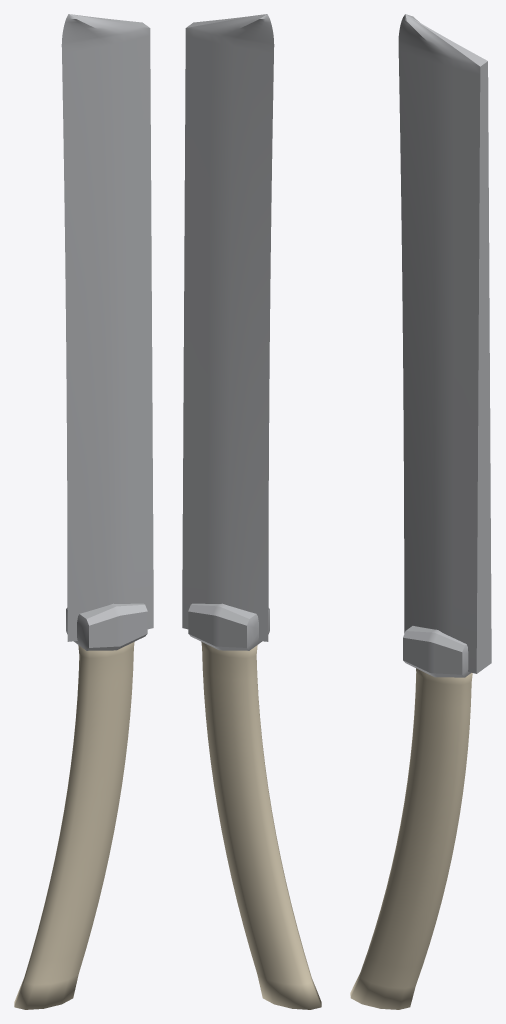
File: war-razor.glb
3 renders of one model, left to right at view 1: azimuth 30°, elevation 25°; view 2: azimuth 150°, elevation 25°; view 3: azimuth 330°, elevation 25°, orthographic.
Visible parts, largest first — view 1: war-razor; view 2: war-razor; view 3: war-razor.
Part boxes in pixels (left/top/right/bottom): war-razor: left=14, top=14, right=153, bottom=1009; war-razor: left=182, top=14, right=321, bottom=1009; war-razor: left=350, top=14, right=491, bottom=1009.
Size of the model in its own units: 0.1256 by 0.89 by 0.044.
